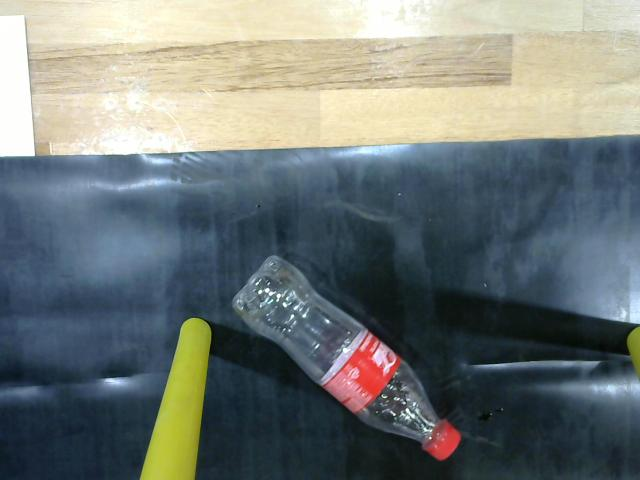bottle: (219, 248, 471, 467)
